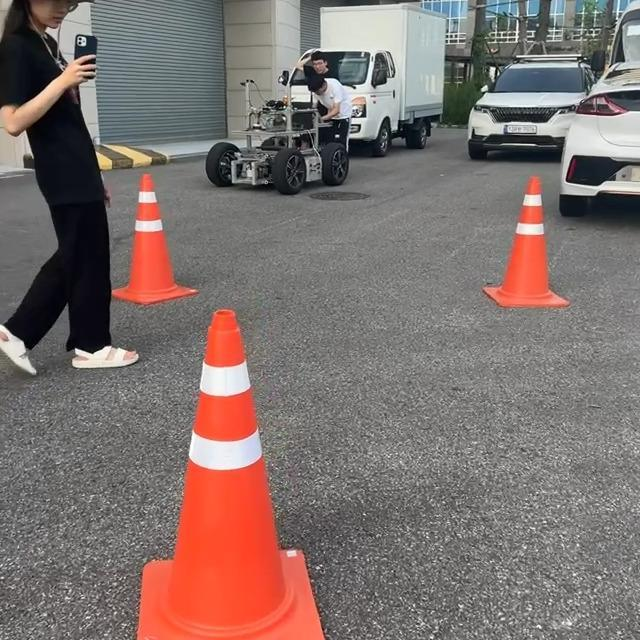fallen_object: (159, 290, 342, 627), (469, 172, 625, 361), (100, 143, 228, 289)
